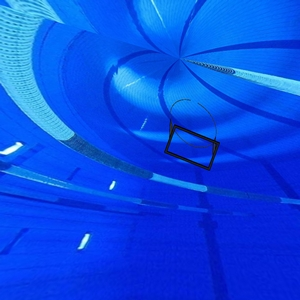circle: (164, 94, 220, 175)
